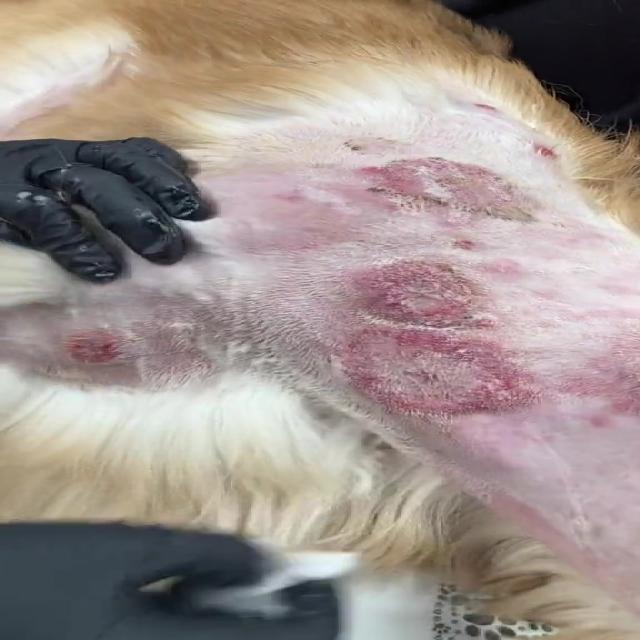hac lao: (293, 330, 556, 438), (6, 272, 184, 419), (328, 230, 508, 366)
